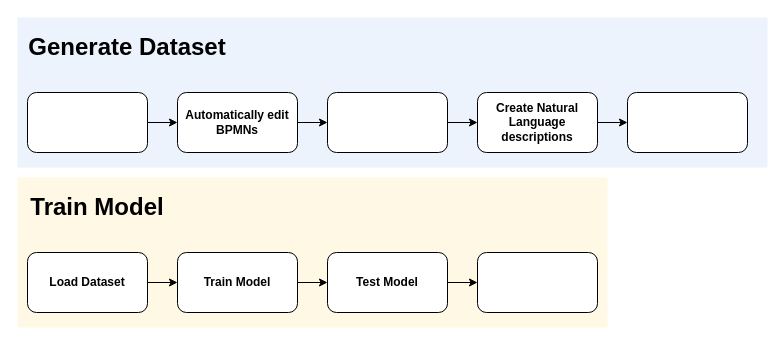
This 784x345 diagram has some shape labels left out. Here are the shapes that lost their labels. From the top down, the box of each, then its label:
(26, 92, 148, 152): Parse BPMN s
(326, 92, 448, 152): Identify verbs and objects (FreeLing)
(626, 92, 748, 152): Create Dataset
